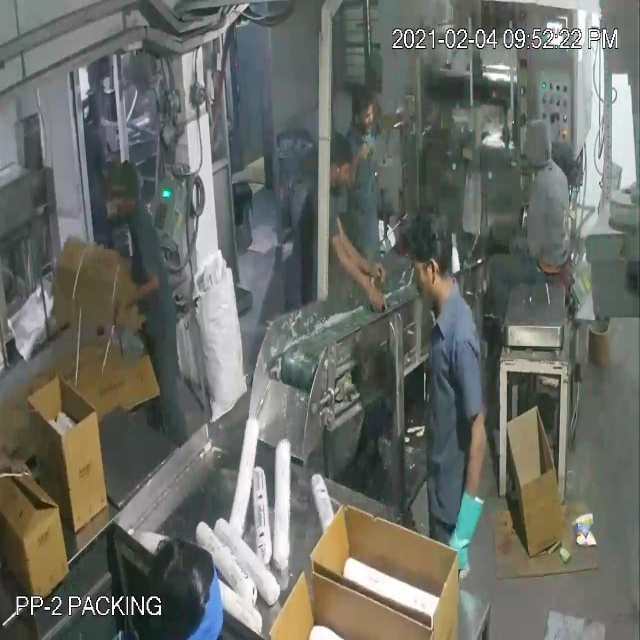Guantes: (448, 464, 489, 587)
Sin_guantes: (324, 231, 387, 314), (334, 215, 392, 285), (107, 258, 161, 309)
